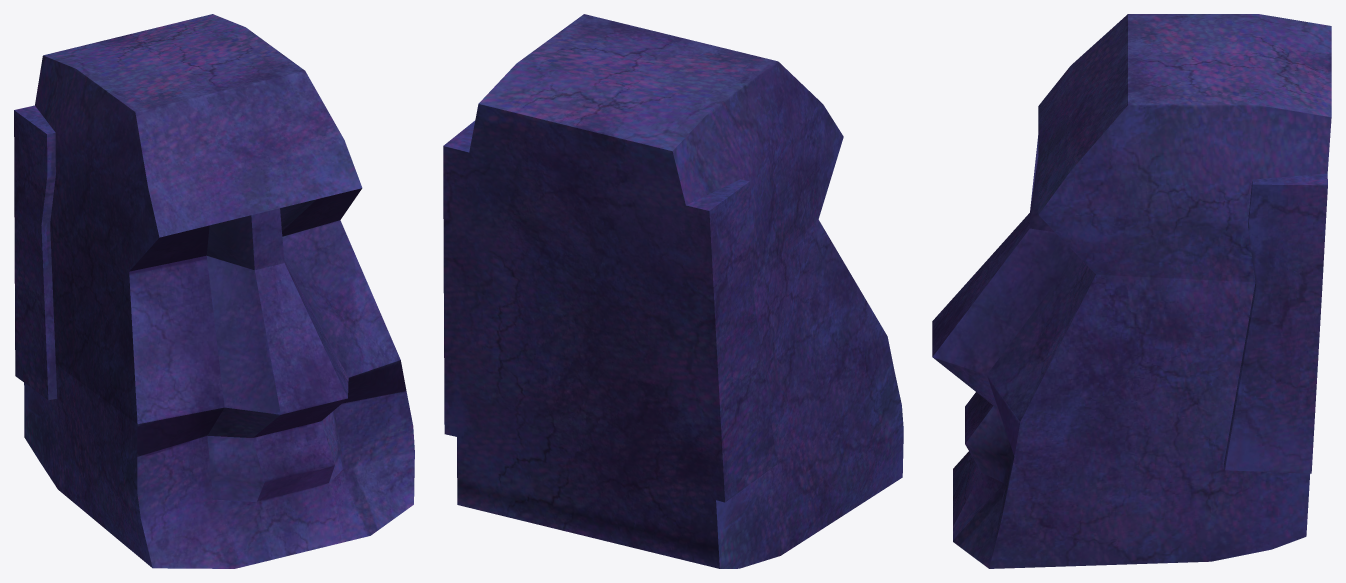
The model's file is Moai_SellIt_af.fbx.
3 views of the same model, side by side, from view 1: azimuth 30°, elevation 25°; view 2: azimuth 150°, elevation 25°; view 3: azimuth 270°, elevation 25° (orthographic). The views are drawn at different scales.
Visible parts, largest first — view 1: pCube1; view 2: pCube1; view 3: pCube1.
Boxes of the visible parts, x1,y1,x2,y2 form: pCube1: [14, 14, 414, 568]; pCube1: [443, 14, 903, 568]; pCube1: [932, 14, 1331, 568].
Bounding box in the file's own units: 9.28 × 12.97 × 10.57.
1 material, 1 textured.
